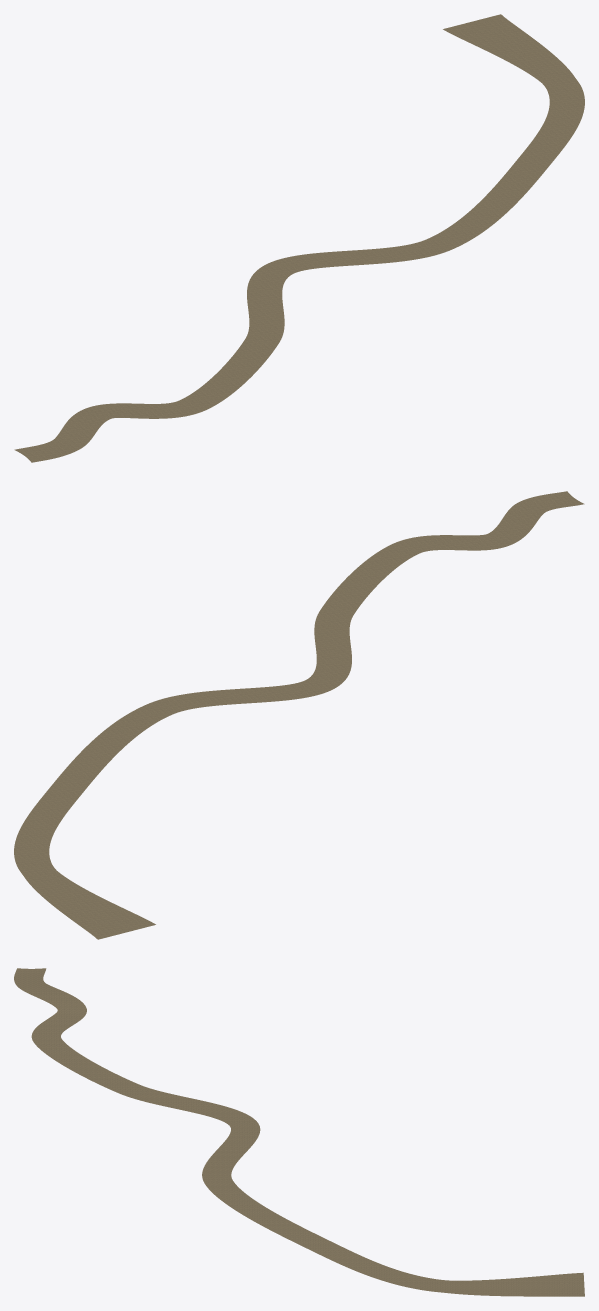
Rendered from arrivalPath.glb.
3 views of the same model, one above another, from view 1: azimuth 30°, elevation 25°; view 2: azimuth 210°, elevation 25°; view 3: azimuth 270°, elevation 25° (orthographic). The views are drawn at different scales.
Parts seen in each view (by area): view 1: Chemin tangent au cercle - gravier identique.001; view 2: Chemin tangent au cercle - gravier identique.001; view 3: Chemin tangent au cercle - gravier identique.001.
Part boxes in pixels (left/top/right/bottom): Chemin tangent au cercle - gravier identique.001: left=14, top=14, right=584, bottom=462; Chemin tangent au cercle - gravier identique.001: left=14, top=491, right=584, bottom=939; Chemin tangent au cercle - gravier identique.001: left=14, top=968, right=584, bottom=1296.
Bounding box in the file's own units: 95.68 × 0.18 × 70.25.
1 material, 1 textured.
